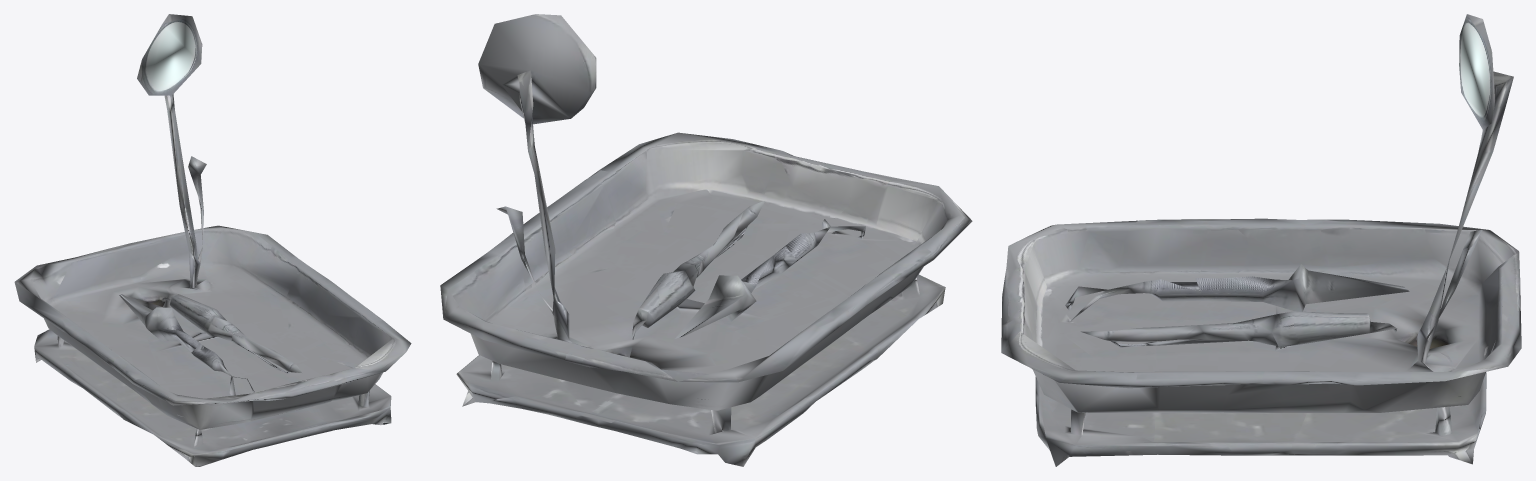
File: tray.glb
The picture shows the model from 3 angles, left to right: view 1: azimuth 30°, elevation 25°; view 2: azimuth 150°, elevation 25°; view 3: azimuth 270°, elevation 25°; orthographic projection. The views are drawn at different scales.
Visible parts, largest first — view 1: tripo_node_dd780530-5876-40bf-8d64-8bc19599c993; view 2: tripo_node_dd780530-5876-40bf-8d64-8bc19599c993; view 3: tripo_node_dd780530-5876-40bf-8d64-8bc19599c993.
Boxes of the visible parts, x1,y1,x2,y2 form: tripo_node_dd780530-5876-40bf-8d64-8bc19599c993: (14,14,411,466); tripo_node_dd780530-5876-40bf-8d64-8bc19599c993: (440,14,972,466); tripo_node_dd780530-5876-40bf-8d64-8bc19599c993: (1001,14,1521,466).
Bounding box in the file's own units: 0.7224 × 0.8434 × 0.976.
Materials: 1 (1 with a texture image).
